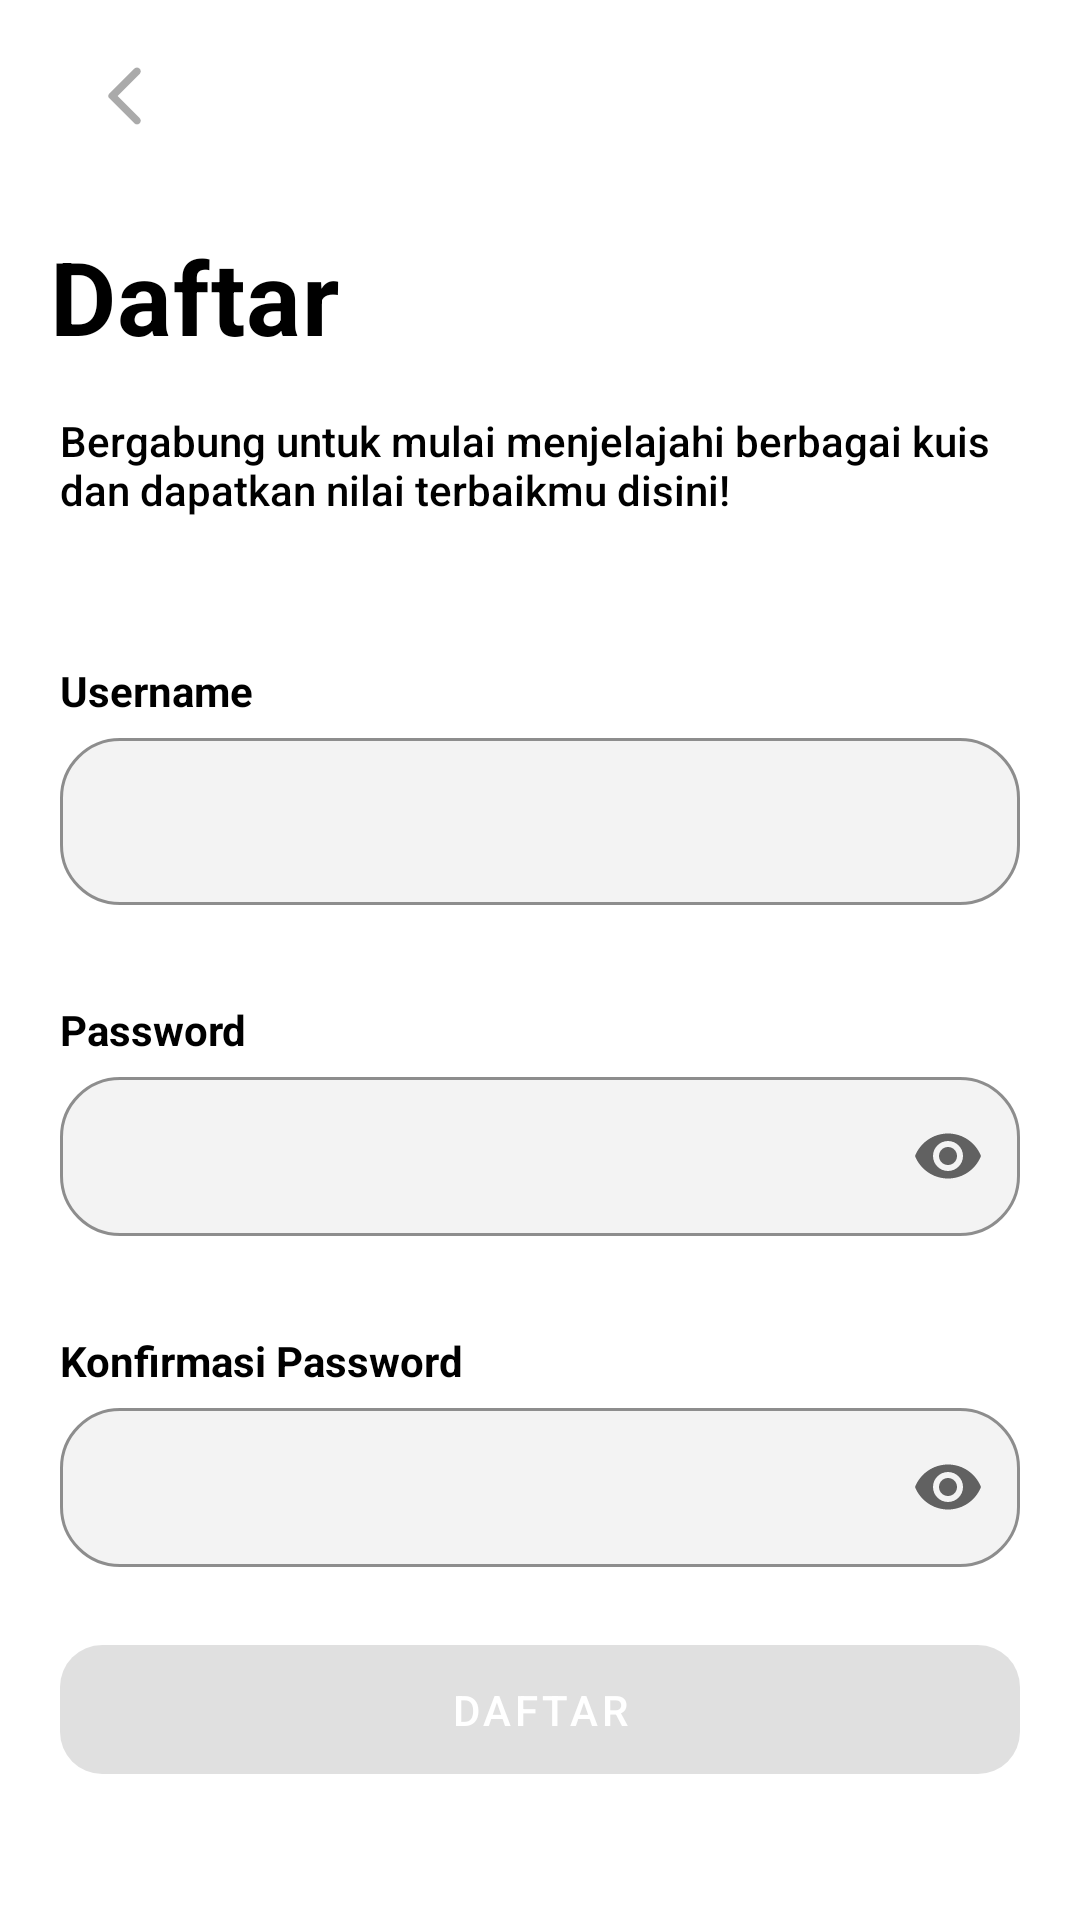

Icons on this 1080 x 1920 Android screen, each with the point to tap as [x,y]:
Back button: [124,96]
